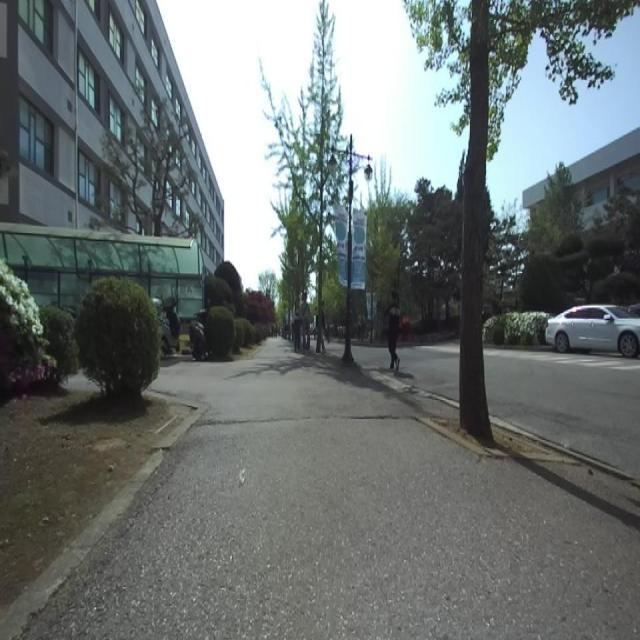sidewalk: (25, 339, 640, 638)
